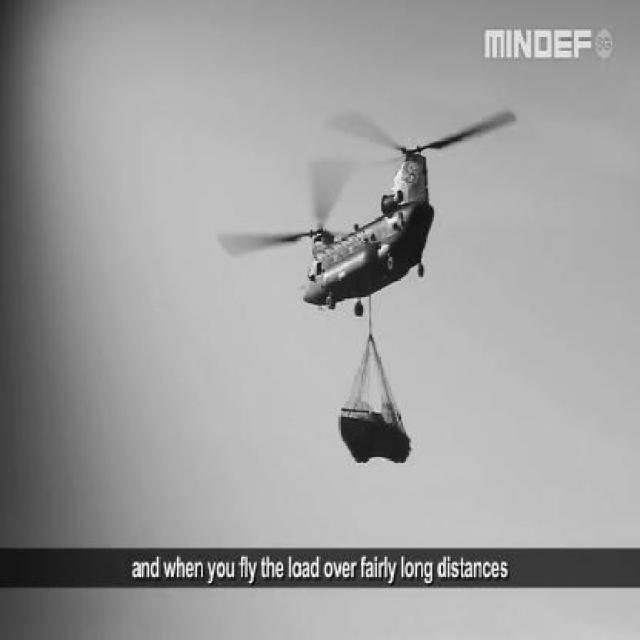Helicopter: (217, 107, 519, 320)
